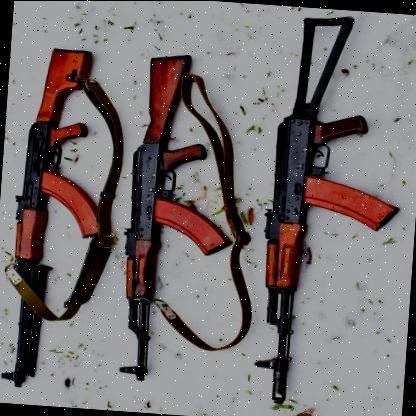rifle: (239, 13, 410, 416), (104, 43, 253, 387), (0, 45, 131, 397)
